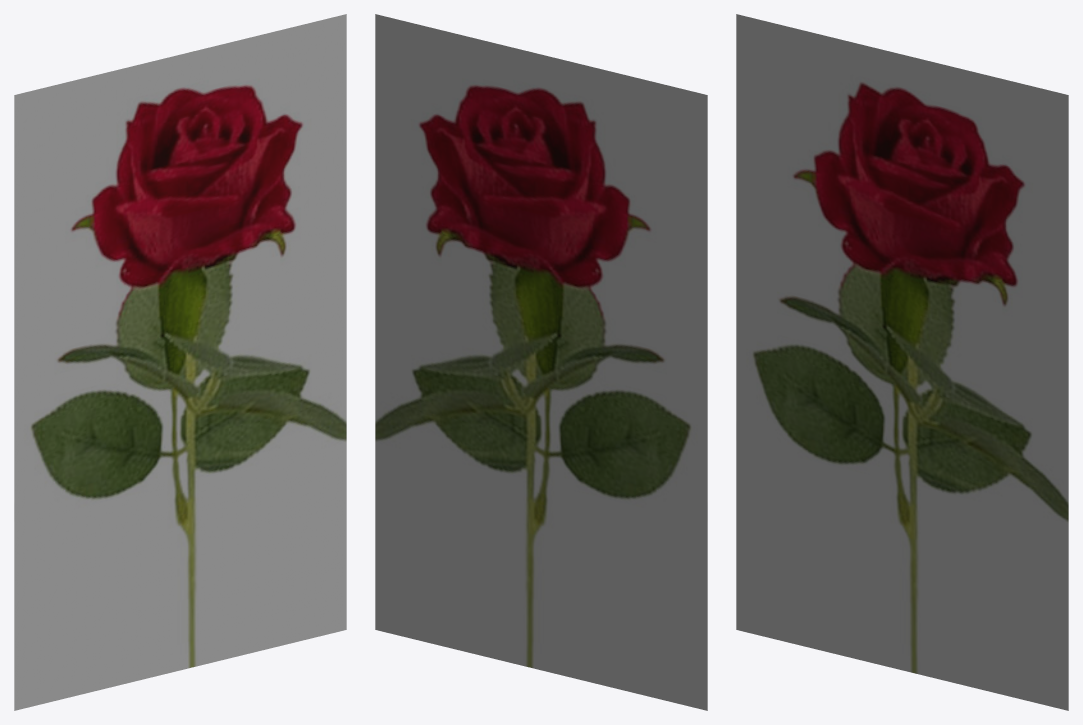
File: numm.glb
3 views of the same model, side by side, from view 1: azimuth 30°, elevation 25°; view 2: azimuth 150°, elevation 25°; view 3: azimuth 330°, elevation 25° (orthographic).
Parts seen in each view (by area): view 1: Layer 1 Mesh; view 2: Layer 1 Mesh; view 3: Layer 1 Mesh.
Part boxes in pixels (x1,y1,x2,y2): Layer 1 Mesh: (14,14,346,710); Layer 1 Mesh: (375,14,707,710); Layer 1 Mesh: (736,14,1068,710).
Bounding box in the file's own units: 0.5652 × 1 × 0.
Materials: 1 (1 with a texture image).
